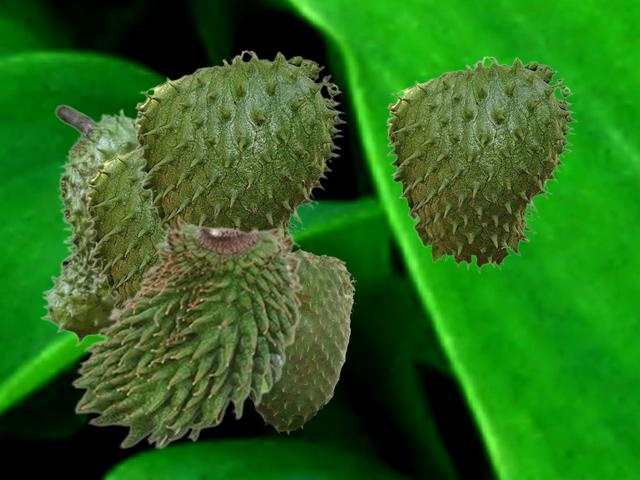guyabano: (70, 215, 303, 448), (134, 49, 346, 254), (386, 55, 577, 273), (39, 104, 137, 346), (249, 249, 355, 433), (85, 149, 164, 307)
